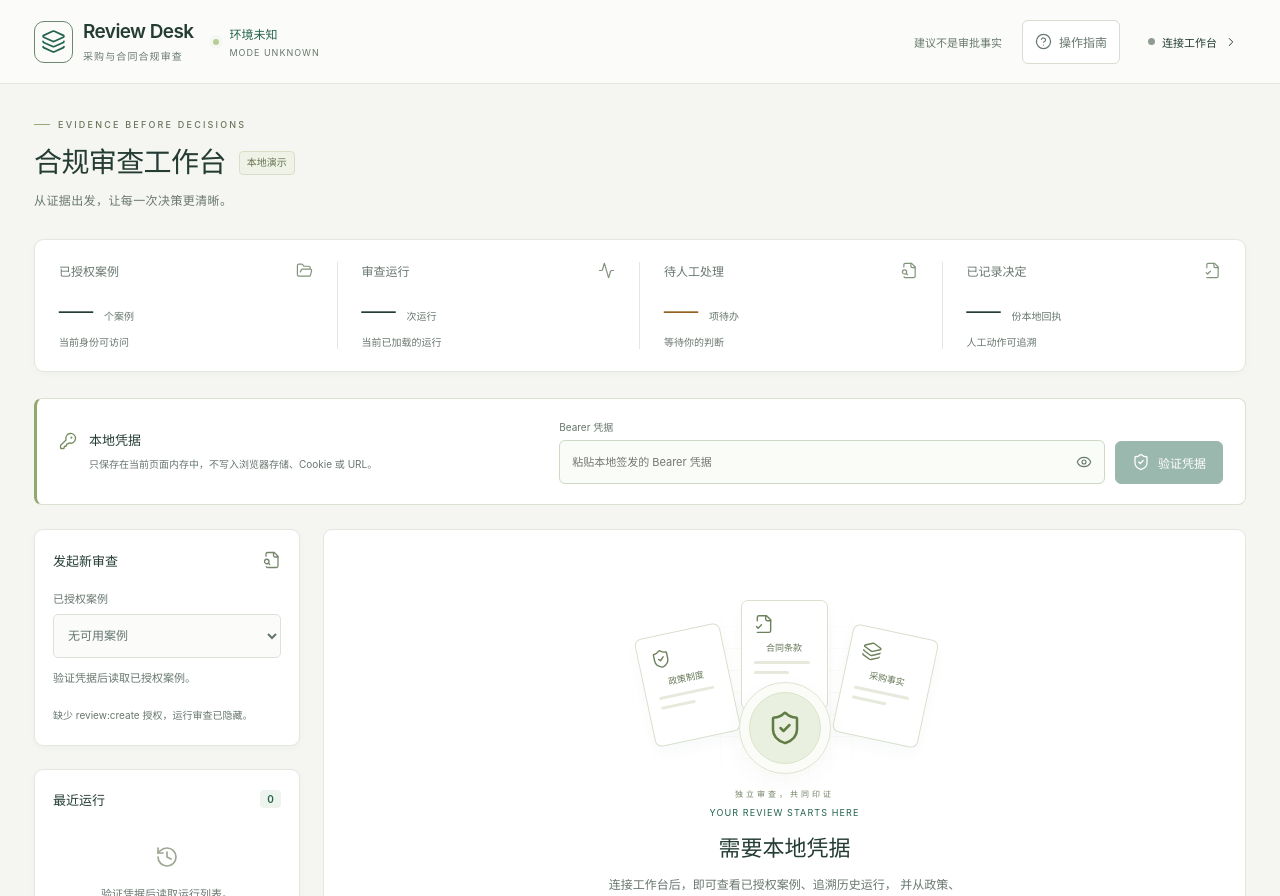
FIX-01C recoverable render boundary › keeps a sign-out path open from the boundary
Type "fix01c-local-credential" into the password field labelled "Bearer 凭据" at (812, 462), box [560,441,1064,483]
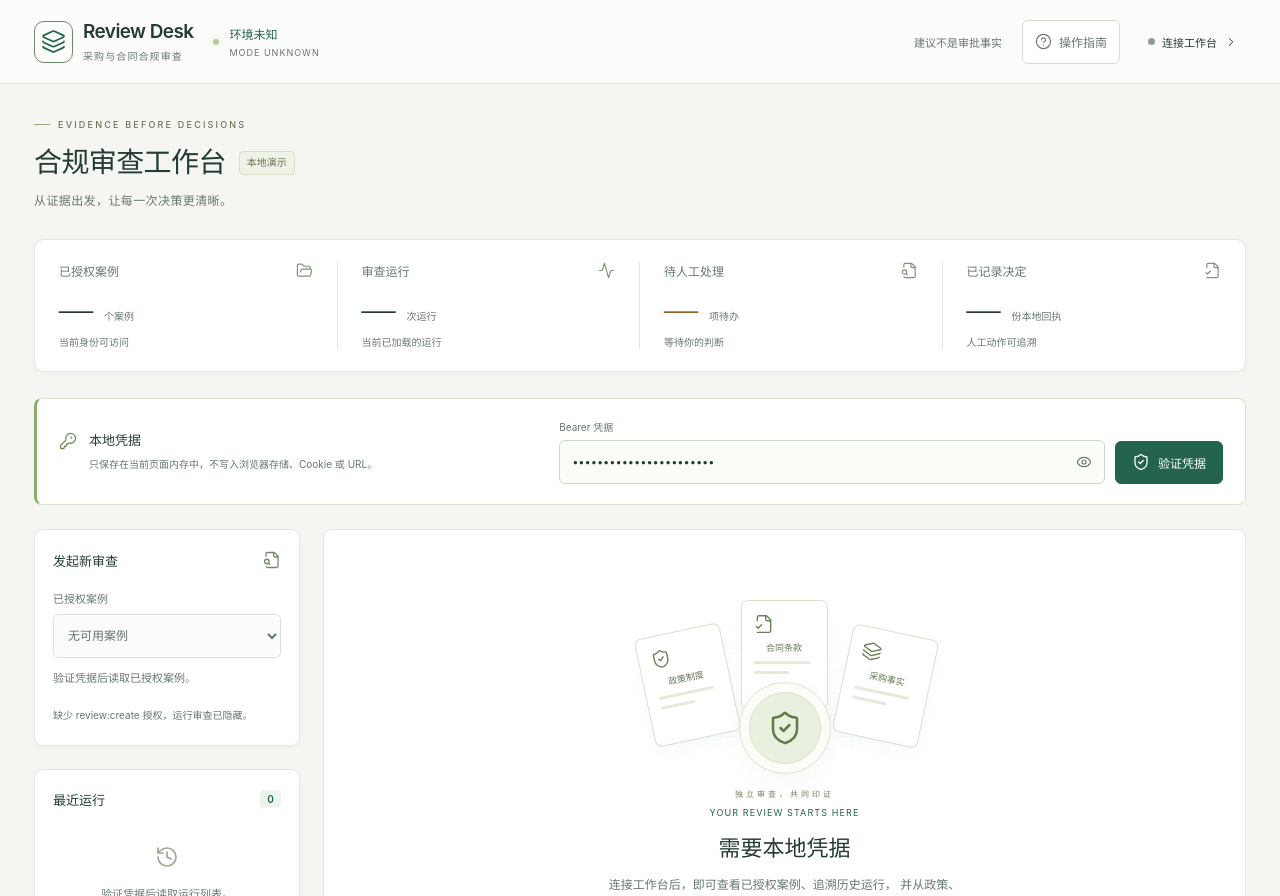
Click the button "验证凭据" at (1169, 462), box [1115,441,1223,484]
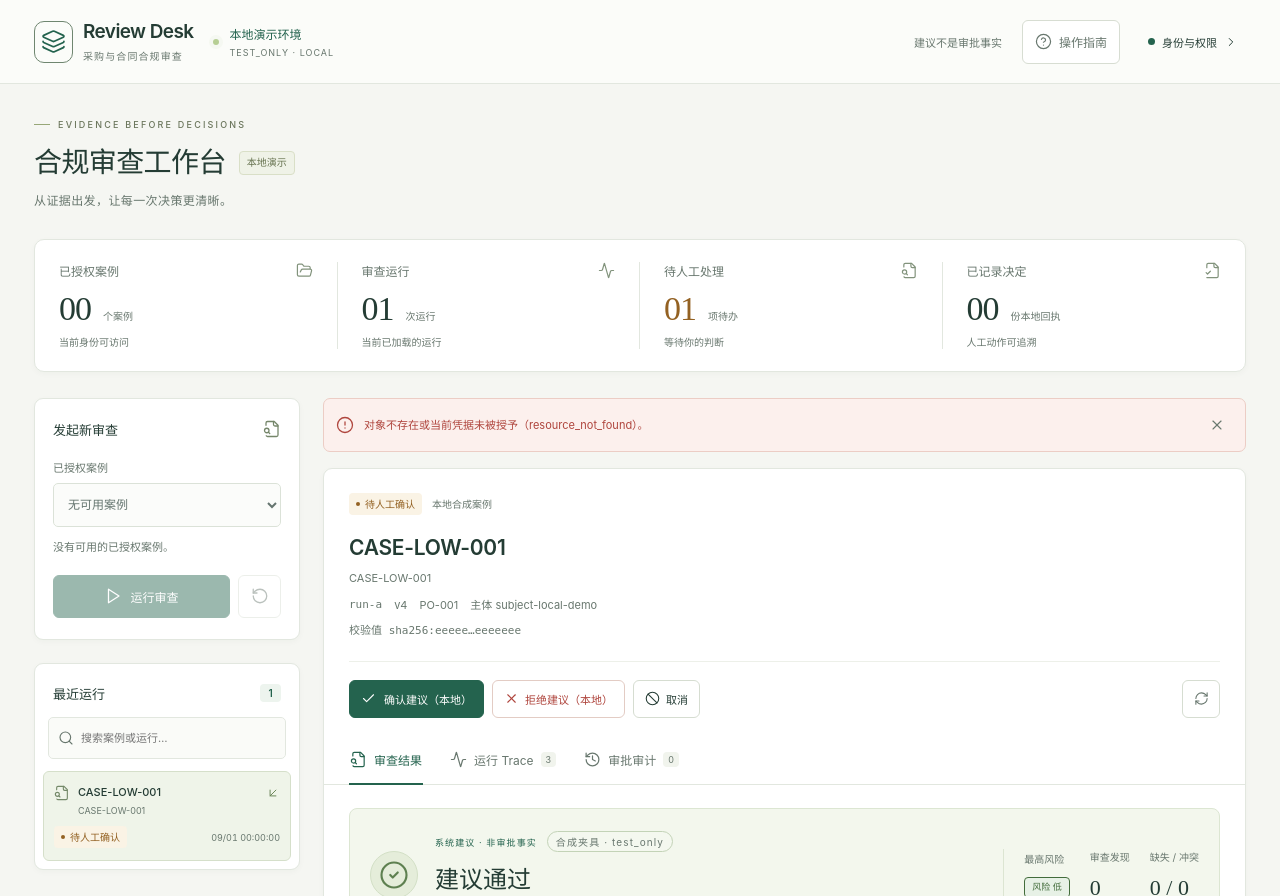
Click the button named "刷新当前 Review" at (1201, 699), box [1182,680,1220,718]
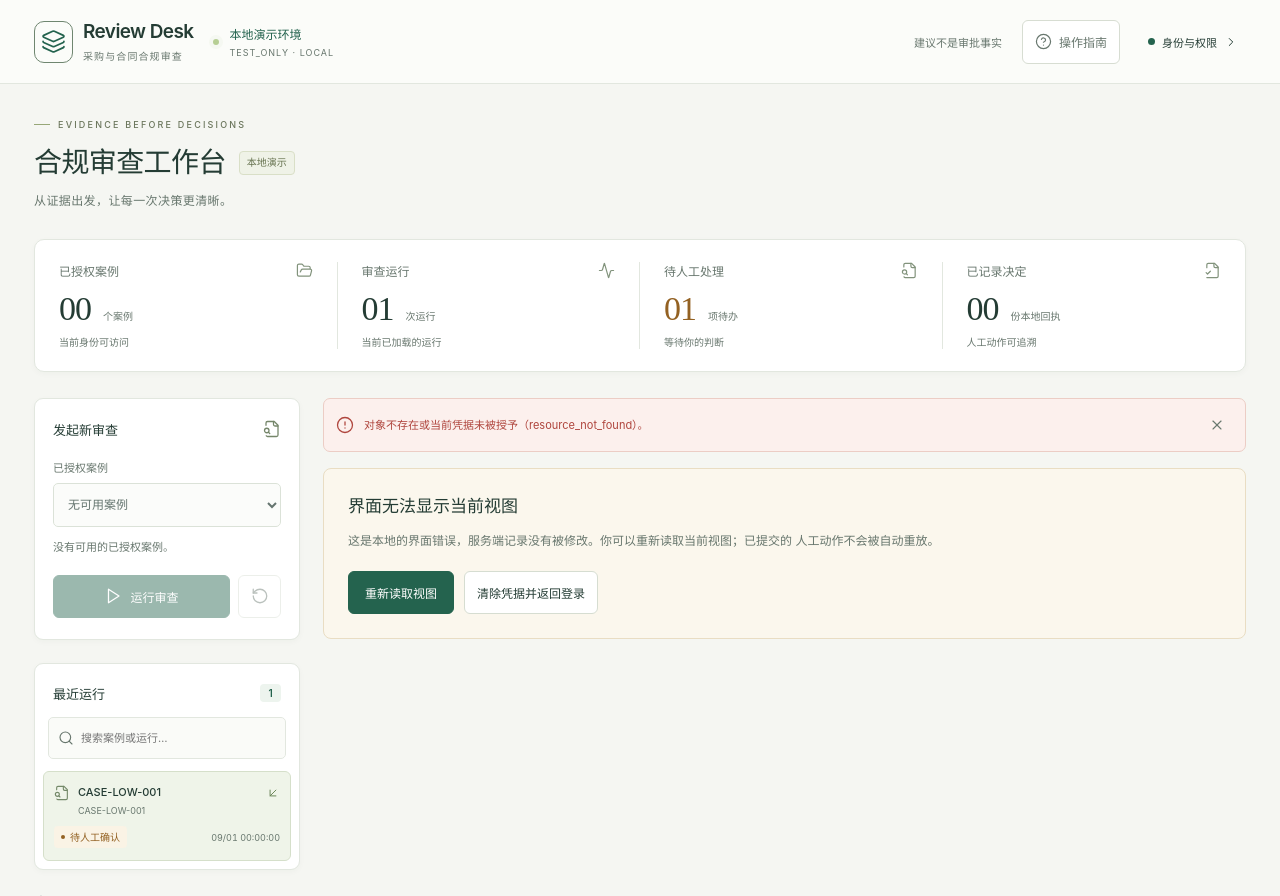
Result: the message "界面无法显示当前视图 这是本地的界面错误，服务端记录没有被修改。你可以重新读取当前视图；已提交的 人工动作不会被自动重放。 重新读取视图 清除凭据并返回登录" is shown at [323,468,1246,639]
Click the button "清除凭据并返回登录" at (531, 592), box [464,571,598,614]
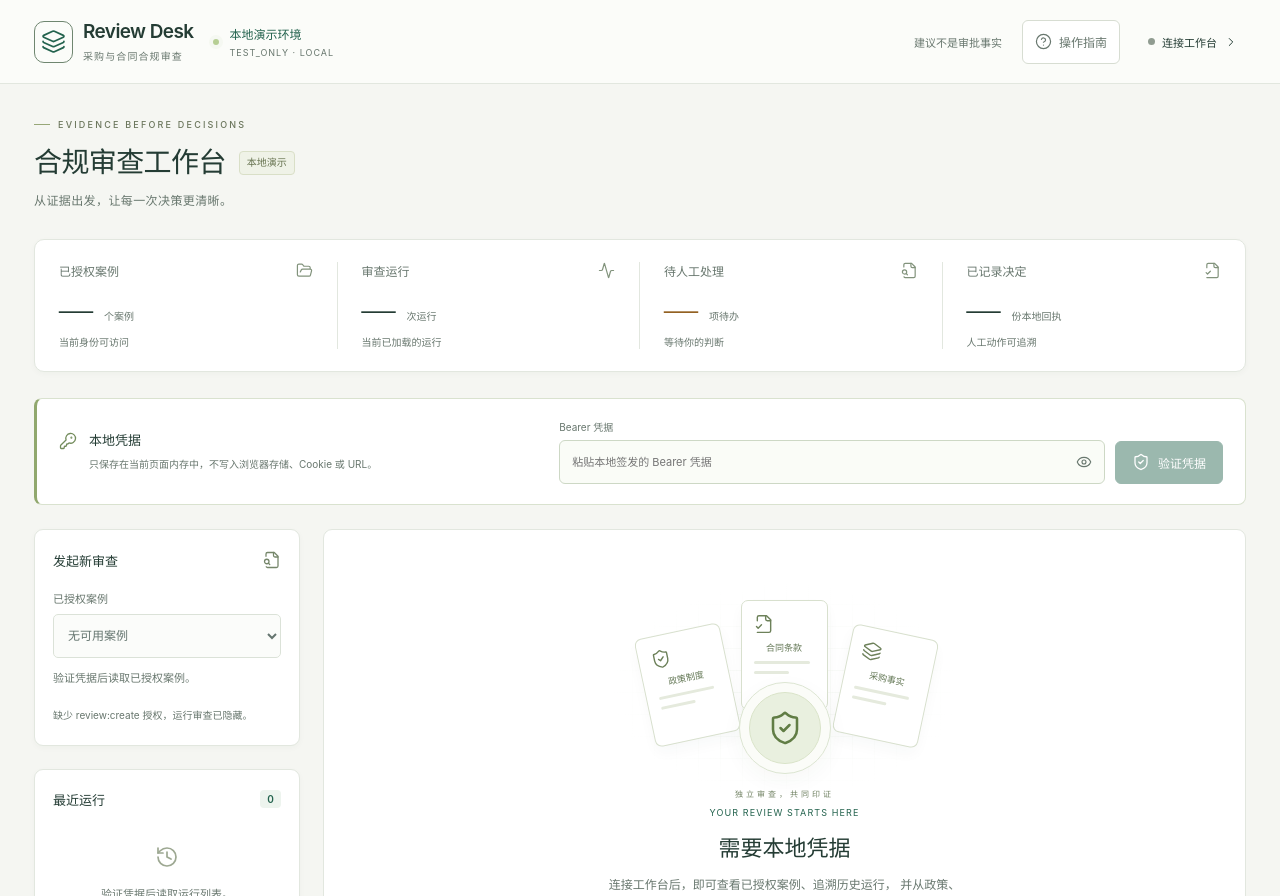
Result: the heading "需要本地凭据" is shown at [718,830,850,862]
